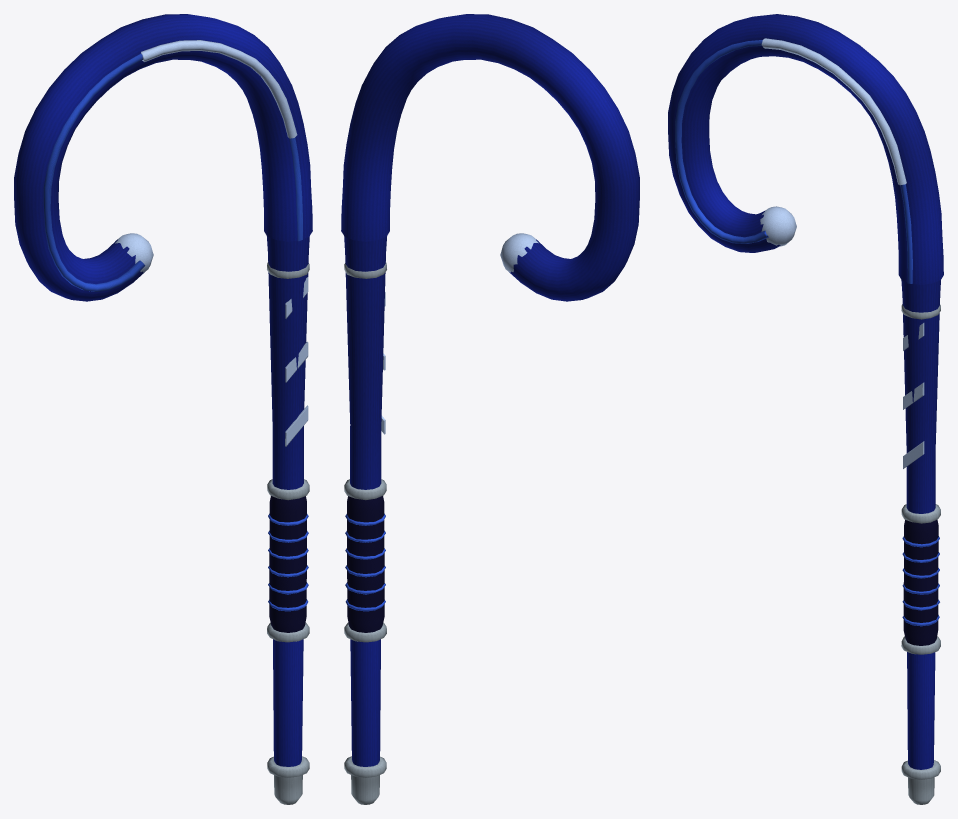
Rendered from cane_of_byrna.glb.
The picture shows the model from 3 angles, left to right: view 1: azimuth 30°, elevation 25°; view 2: azimuth 150°, elevation 25°; view 3: azimuth 330°, elevation 25°; orthographic projection. The views are drawn at different scales.
Parts seen in each view (by area): view 1: Open cobalt Byrna crook, Slender blue Byrna shaft, Midnight blue cane grip, Crook bright blue bevel, Crook white-blue edge inlay, Byrna inward silver crook tip, Blue cane end ferrule, Silver Byrna shaft ferrule; view 2: Open cobalt Byrna crook, Slender blue Byrna shaft, Midnight blue cane grip, Byrna inward silver crook tip, Blue cane end ferrule, Silver Byrna shaft ferrule; view 3: Open cobalt Byrna crook, Slender blue Byrna shaft, Midnight blue cane grip, Crook bright blue bevel, Crook white-blue edge inlay, Byrna inward silver crook tip, Blue cane end ferrule.
Part boxes in pixels (x1,y1,x2,y2): Open cobalt Byrna crook: (14,14,312,301); Slender blue Byrna shaft: (267,236,309,766); Midnight blue cane grip: (269,496,306,632); Crook bright blue bevel: (43,53,302,291); Crook white-blue edge inlay: (141,40,297,138); Byrna inward silver crook tip: (115,233,153,272); Blue cane end ferrule: (274,775,302,804); Silver Byrna shaft ferrule: (267,756,309,777); Open cobalt Byrna crook: (341,14,639,301); Slender blue Byrna shaft: (344,236,386,766); Midnight blue cane grip: (347,496,384,632); Byrna inward silver crook tip: (500,233,538,272); Blue cane end ferrule: (351,775,379,804); Silver Byrna shaft ferrule: (344,756,386,777); Open cobalt Byrna crook: (668,14,943,284); Slender blue Byrna shaft: (901,280,940,769); Midnight blue cane grip: (903,519,938,645); Crook bright blue bevel: (675,40,912,283); Crook white-blue edge inlay: (761,38,906,185); Byrna inward silver crook tip: (760,206,796,246); Blue cane end ferrule: (908,777,934,804).
Bounding box in the file's own units: 240 × 639 × 38.43.
5 materials, 5 textured.
